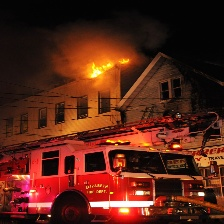fire: (82, 60, 133, 78)
smoke: (32, 15, 137, 59)
